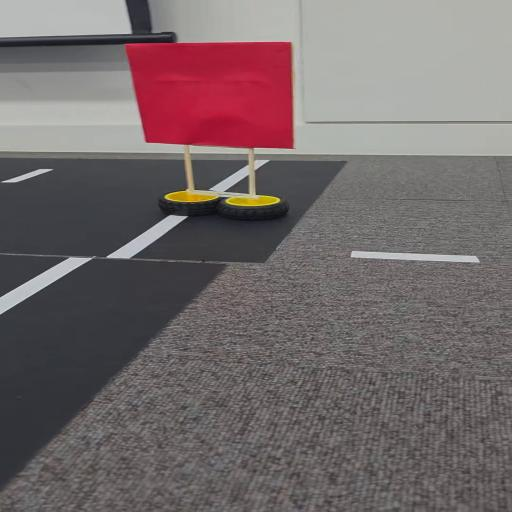Sign_A: (126, 32, 313, 236)
